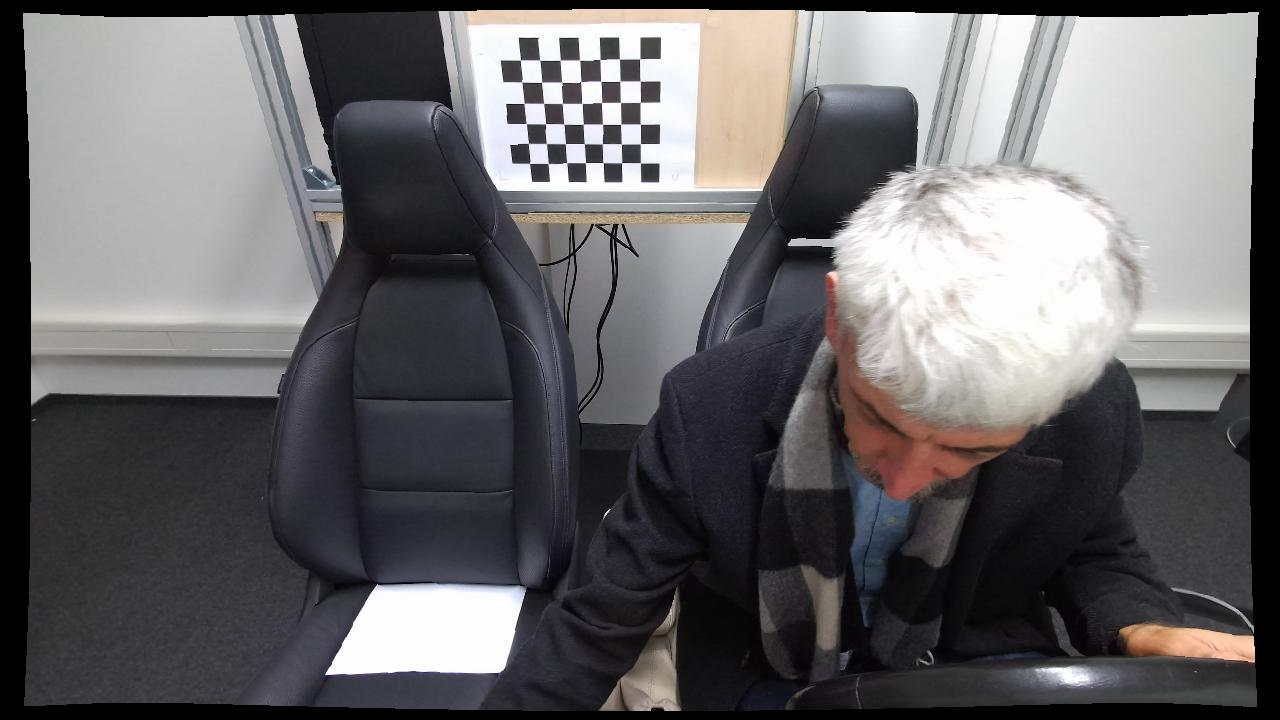Distracted: (478, 155, 1157, 707)
